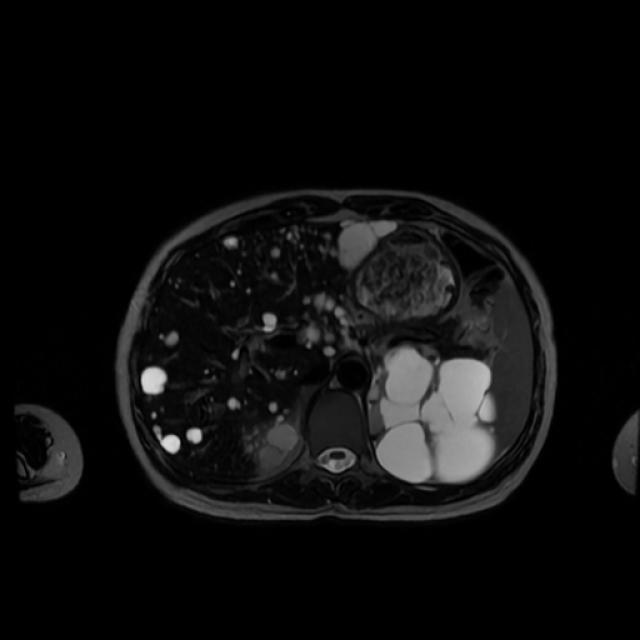sag: (245, 412, 300, 473)
sol: (372, 341, 496, 481)
